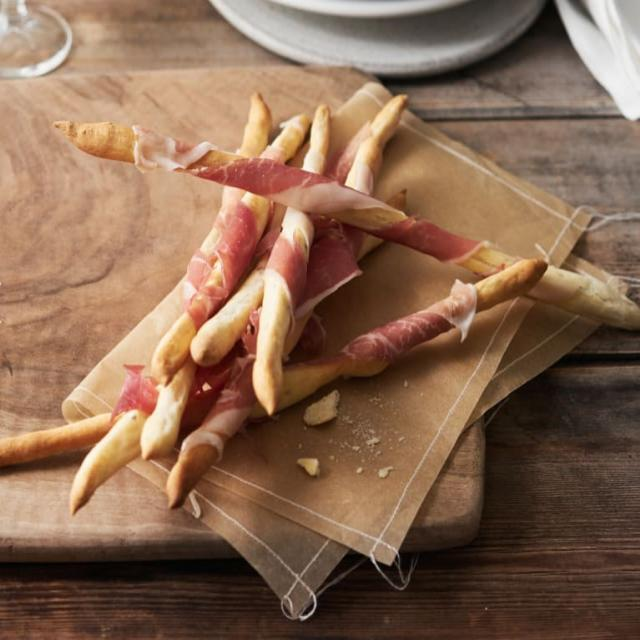Grissini: (55, 103, 614, 503)
